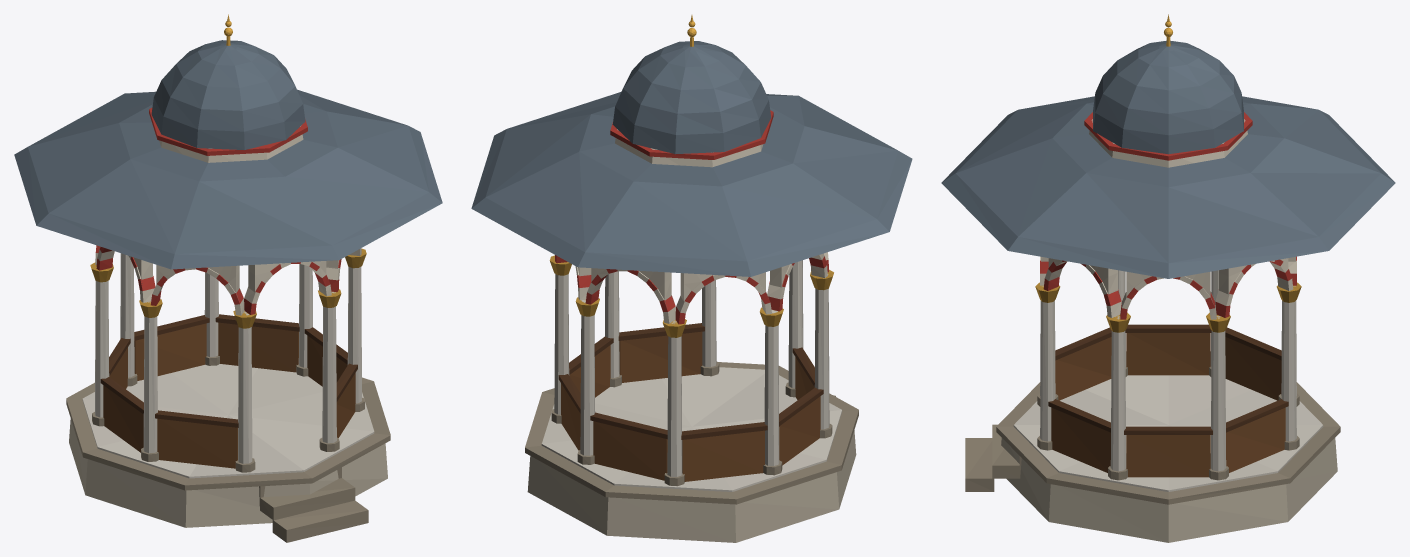
The model's file is ZB_yapi_kosk.glb.
3 views of the same model, side by side, from view 1: azimuth 30°, elevation 25°; view 2: azimuth 150°, elevation 25°; view 3: azimuth 270°, elevation 25° (orthographic). The views are drawn at different scales.
Visible parts, largest first — view 1: ZB_yapi_kosk; view 2: ZB_yapi_kosk; view 3: ZB_yapi_kosk.
Part boxes in pixels (x1=…): ZB_yapi_kosk: x1=14, y1=14, x2=442, y2=542; ZB_yapi_kosk: x1=471, y1=15, x2=912, y2=542; ZB_yapi_kosk: x1=941, y1=14, x2=1395, y2=542.
Size of the model in its own units: 4.7 by 5.22 by 4.7.
